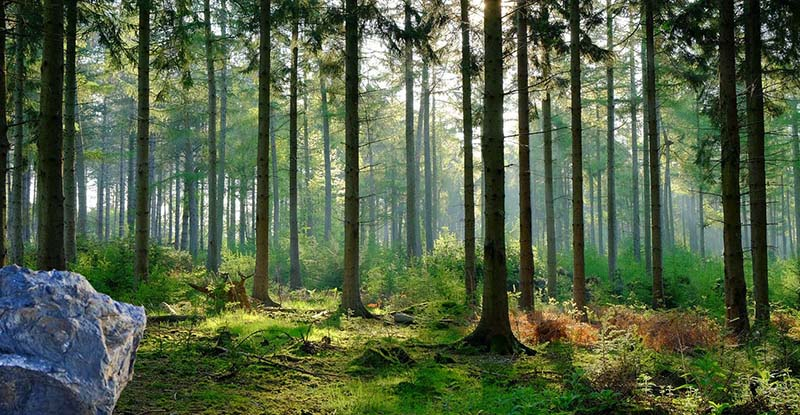Rocks: (2, 256, 152, 415)
